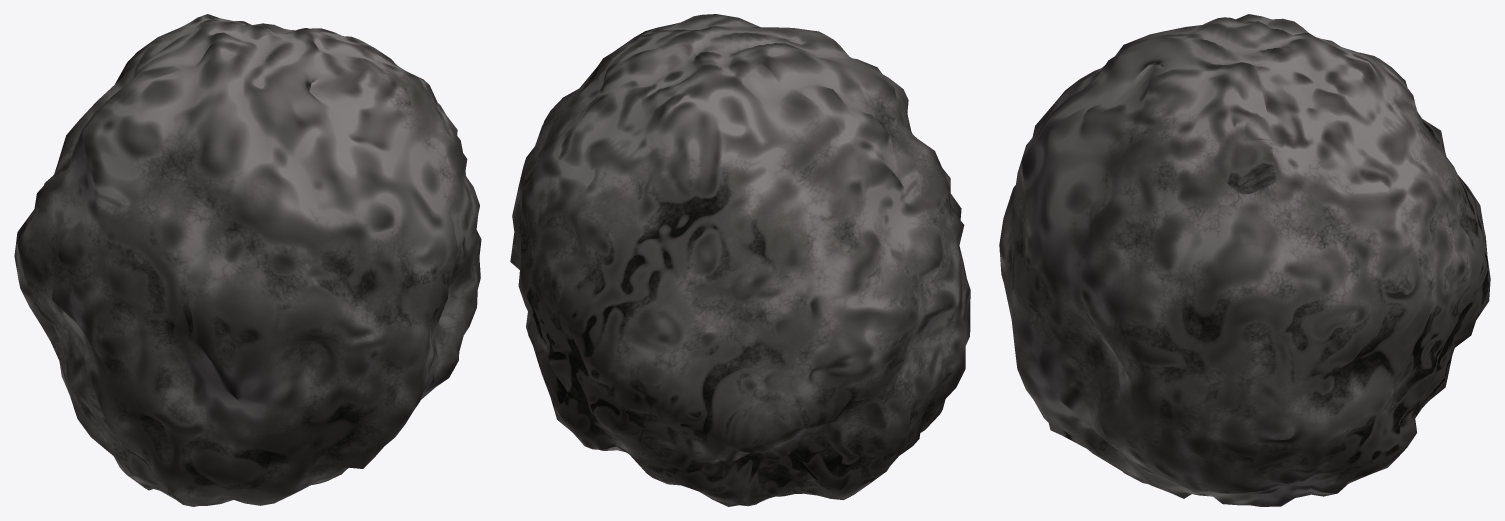
File: Inactive_cell.glb
3 views of the same model, side by side, from view 1: azimuth 30°, elevation 25°; view 2: azimuth 150°, elevation 25°; view 3: azimuth 270°, elevation 25° (orthographic). The views are drawn at different scales.
Parts seen in each view (by area): view 1: Sphere; view 2: Sphere; view 3: Sphere.
Part boxes in pixels (x1,y1,x2,y2): Sphere: (14,14,481,506); Sphere: (510,14,970,506); Sphere: (999,14,1490,506).
Bounding box in the file's own units: 1.83 × 1.85 × 1.83.
1 material, 1 textured.
